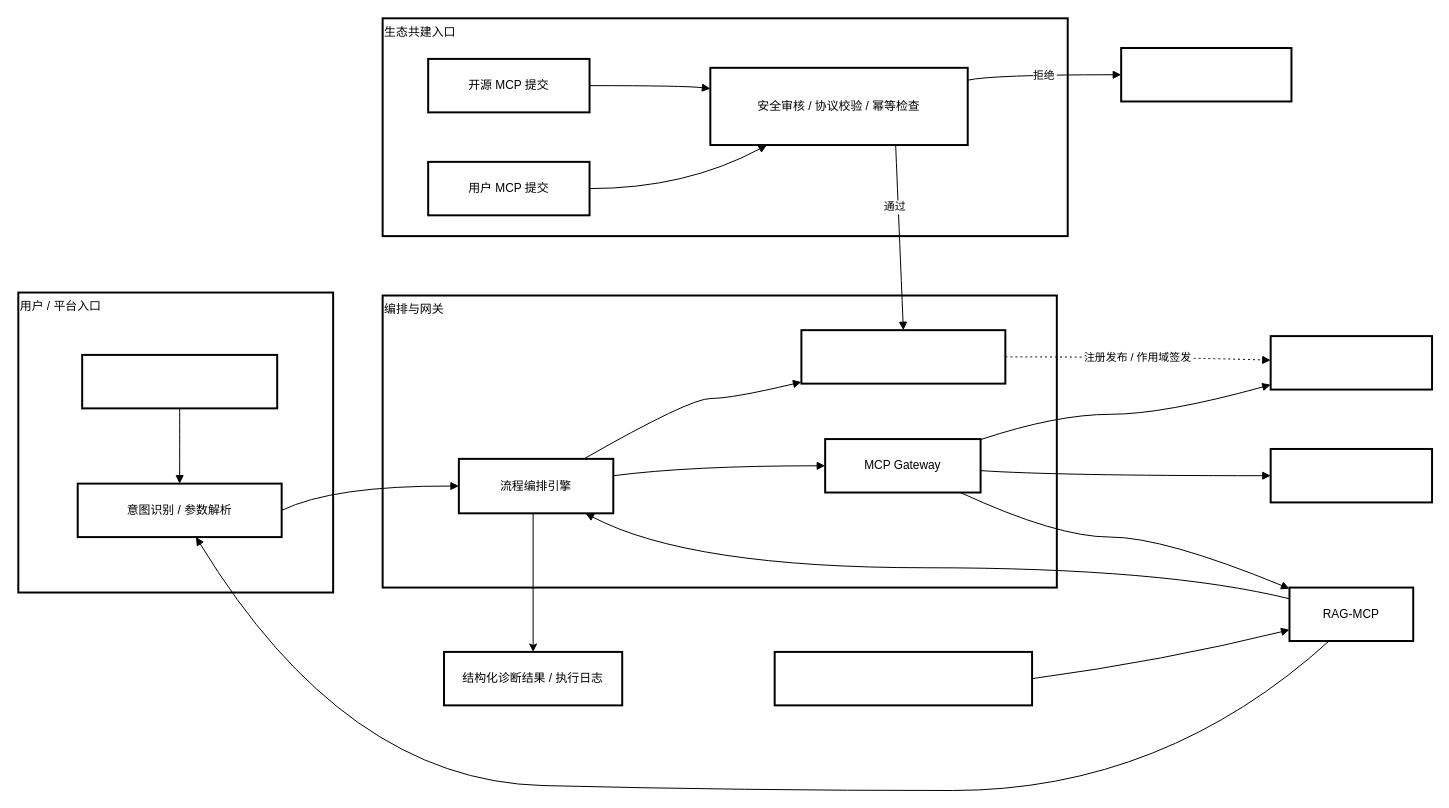
Image size: 1449x808. Some labels were removed from this diagram. The shapes that lost their labels are listed below. From the top down, each one's centre as x and y in pixels, then its label:
At point (1206, 74): "退回与整改建议".
At point (903, 356): "Tool Registry / RBAC".
At point (1351, 362): "扩展 MCP 集合".
At point (179, 381): "自然语言界面 / API".
At point (1351, 475): "核心 MCP 集合".
At point (903, 678): "知识域：意图 / 流程 / SOP / 工具规范".
